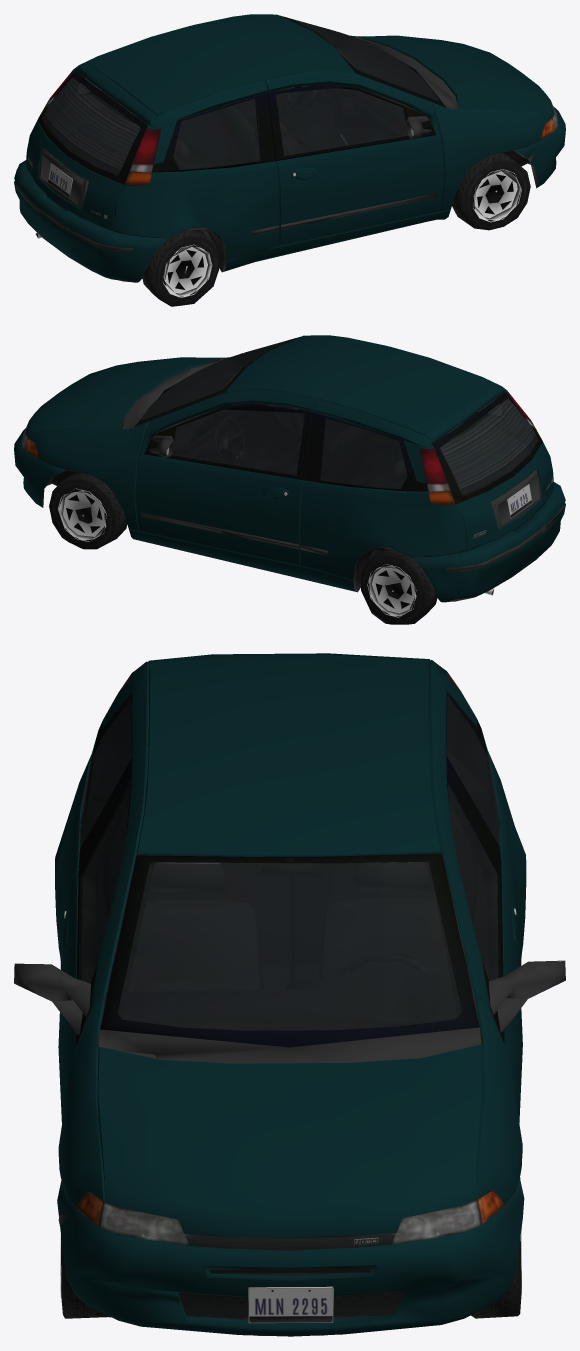
Rendered from hatch-a.glb.
3 renders of one model, top to bottom at view 1: azimuth 30°, elevation 25°; view 2: azimuth 150°, elevation 25°; view 3: azimuth 270°, elevation 25°, orthographic. The views are drawn at different scales.
Parts seen in each view (by area): view 1: Milano95_Body_Milano95_Bodymat_0, Milano95_Headlights_Glass_UCB_Lights_and_Glass_Transperent_0, Milano95_interior_UCB_Interiors_2_0, Milano95_Suspension_UCB_BOTTOM_0, Milano95_WheelStock_FL_RB1c_Tire_1k_0, Milano95_Headlights_UCB_Lights_and_Glass_0, Milano95_Numberplates_Rear_Numberplates_Misk_U_0; view 2: Milano95_Body_Milano95_Bodymat_0, Milano95_Headlights_Glass_UCB_Lights_and_Glass_Transperent_0, Milano95_interior_UCB_Interiors_2_0, Milano95_Suspension_UCB_BOTTOM_0, Milano95_WheelStock_FL_RB1c_Tire_1k_0, Milano95_Headlights_UCB_Lights_and_Glass_0, Milano95_Numberplates_Rear_Numberplates_Misk_U_0; view 3: Milano95_Body_Milano95_Bodymat_0, Milano95_Headlights_Glass_UCB_Lights_and_Glass_Transperent_0, Milano95_interior_UCB_Interiors_2_0, Milano95_Suspension_UCB_BOTTOM_0, Milano95_Headlights_UCB_Lights_and_Glass_0, Milano95_Numberplates_Rear_Numberplates_Misk_U_0, Milano95_WheelStock_FL_RB1c_Tire_1k_0.
Boxes of the visible parts, x1,y1,x2,y2 form: Milano95_Body_Milano95_Bodymat_0: [14, 14, 565, 282]; Milano95_Headlights_Glass_UCB_Lights_and_Glass_Transperent_0: [41, 17, 557, 185]; Milano95_interior_UCB_Interiors_2_0: [42, 18, 438, 243]; Milano95_Suspension_UCB_BOTTOM_0: [15, 16, 549, 281]; Milano95_WheelStock_FL_RB1c_Tire_1k_0: [142, 152, 530, 306]; Milano95_Headlights_UCB_Lights_and_Glass_0: [38, 71, 557, 184]; Milano95_Numberplates_Rear_Numberplates_Misk_U_0: [47, 163, 72, 198]; Milano95_Body_Milano95_Bodymat_0: [14, 335, 565, 602]; Milano95_Headlights_Glass_UCB_Lights_and_Glass_Transperent_0: [22, 339, 541, 505]; Milano95_interior_UCB_Interiors_2_0: [141, 339, 537, 551]; Milano95_Suspension_UCB_BOTTOM_0: [29, 337, 564, 601]; Milano95_WheelStock_FL_RB1c_Tire_1k_0: [49, 472, 437, 624]; Milano95_Headlights_UCB_Lights_and_Glass_0: [22, 392, 542, 504]; Milano95_Numberplates_Rear_Numberplates_Misk_U_0: [507, 484, 532, 519]; Milano95_Body_Milano95_Bodymat_0: [55, 653, 526, 1336]; Milano95_Headlights_Glass_UCB_Lights_and_Glass_Transperent_0: [76, 672, 504, 1245]; Milano95_interior_UCB_Interiors_2_0: [81, 697, 499, 1046]; Milano95_Suspension_UCB_BOTTOM_0: [14, 691, 565, 1335]; Milano95_Headlights_UCB_Lights_and_Glass_0: [76, 1190, 504, 1245]; Milano95_Numberplates_Rear_Numberplates_Misk_U_0: [248, 1286, 333, 1323]; Milano95_WheelStock_FL_RB1c_Tire_1k_0: [60, 954, 521, 1318].
Size of the model in its own units: 3.85 by 1.42 by 1.91.
8 materials, 7 textured.
